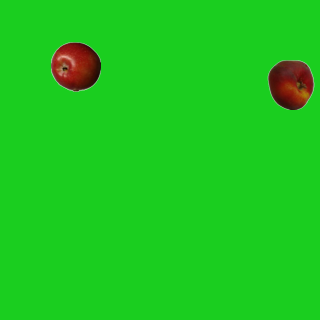Apple Braeburn: (50, 41, 100, 91)
Nectarine Flat: (265, 59, 315, 109)
